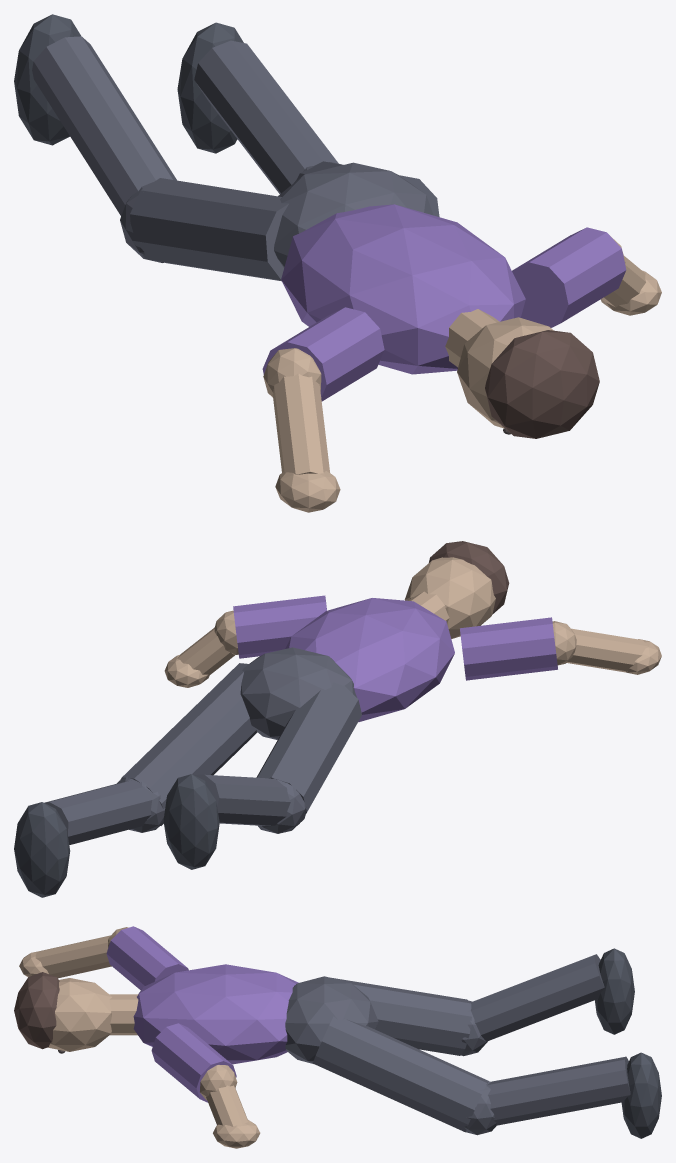
3 renders of one model, top to bottom at view 1: azimuth 30°, elevation 25°; view 2: azimuth 150°, elevation 25°; view 3: azimuth 270°, elevation 25°, orthographic. The views are drawn at different scales.
Parts seen in each view (by area): view 1: world; view 2: world; view 3: world.
Part boxes in pixels (<box>): world: <box>14,14,661,512</box>; world: <box>14,541,661,897</box>; world: <box>14,926,661,1148</box>.
Size of the model in its own units: 1.25 by 0.4556 by 2.04.
